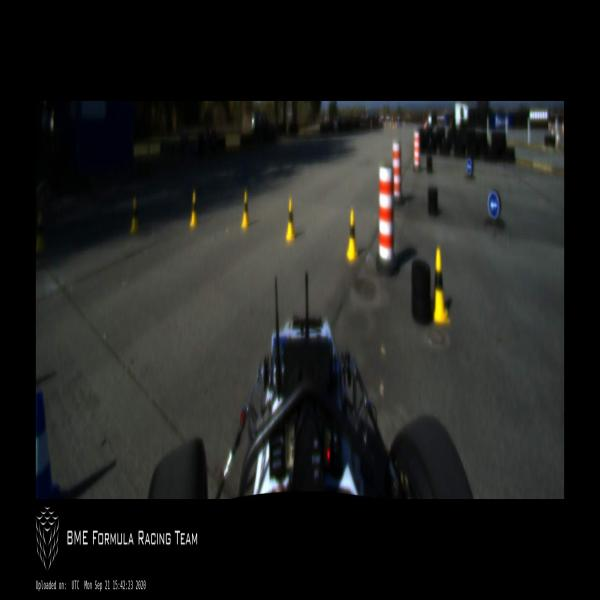blue_cone: (36, 390, 64, 498)
yellow_cone: (430, 247, 450, 323), (347, 209, 358, 261), (36, 213, 46, 254), (286, 197, 295, 241), (129, 198, 139, 235), (241, 191, 250, 229), (189, 190, 198, 228)
